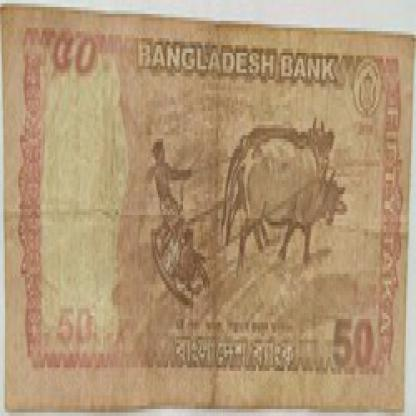Fifty taka: (326, 301, 381, 384), (47, 21, 103, 83)
